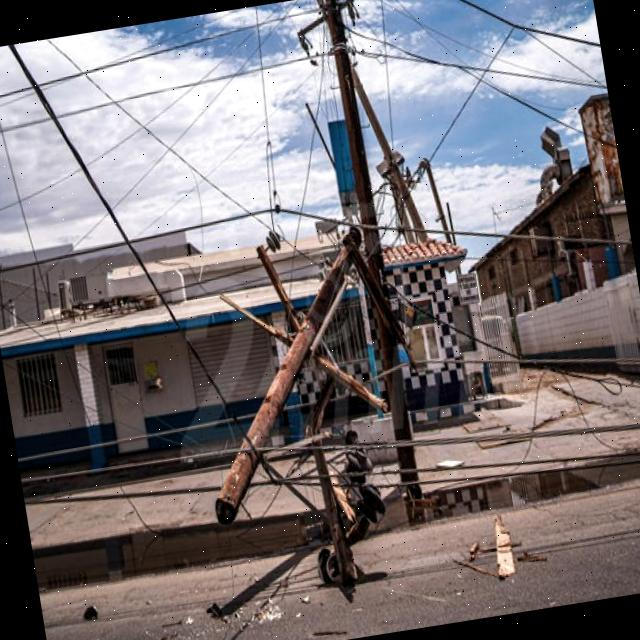Broken Pole: (214, 228, 417, 579)
